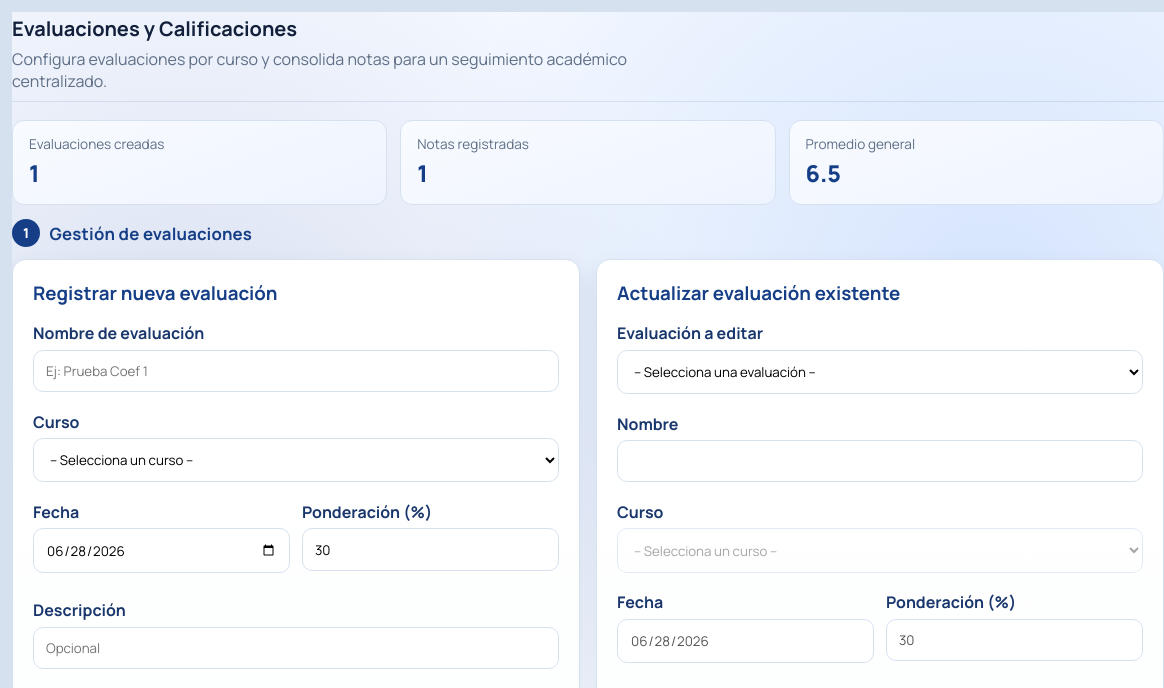
Evaluaciones — actualización de evaluación › carga los datos de la evaluación al seleccionarla en el select
Select "Prueba 1 (1A)" in the dropdown labelled "Evaluación a editar": (880,372) [617,350,1143,394]
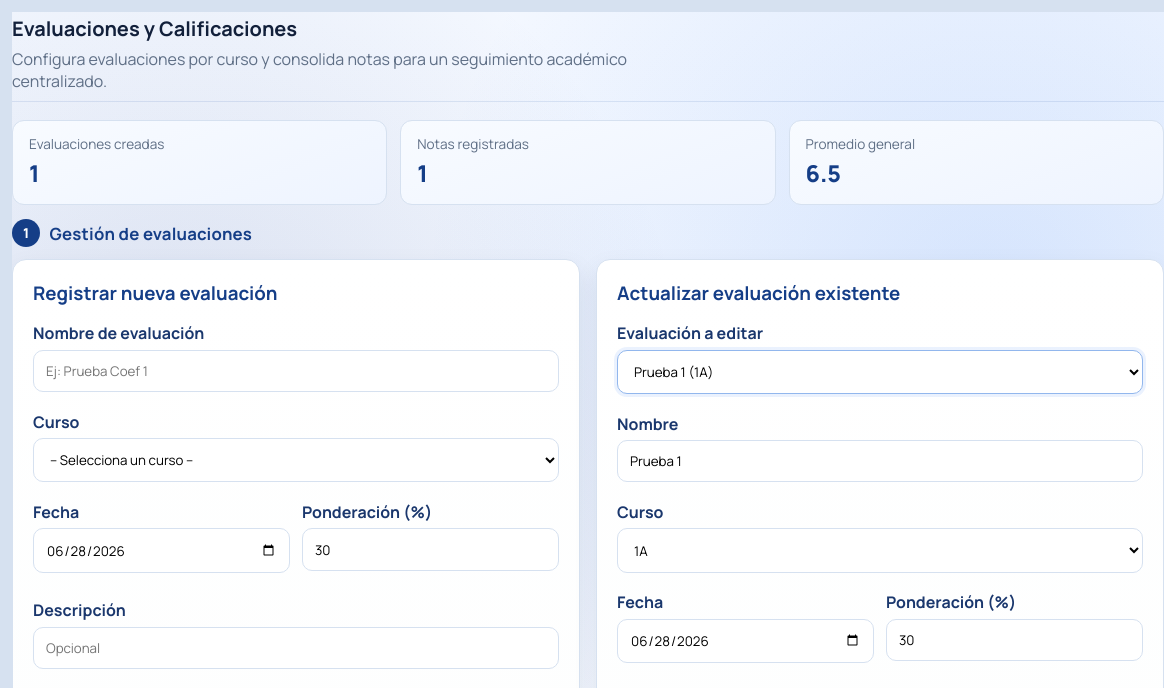
Result: the field labelled "Nombre" holds "Prueba 1" at [617,440,1143,482]
